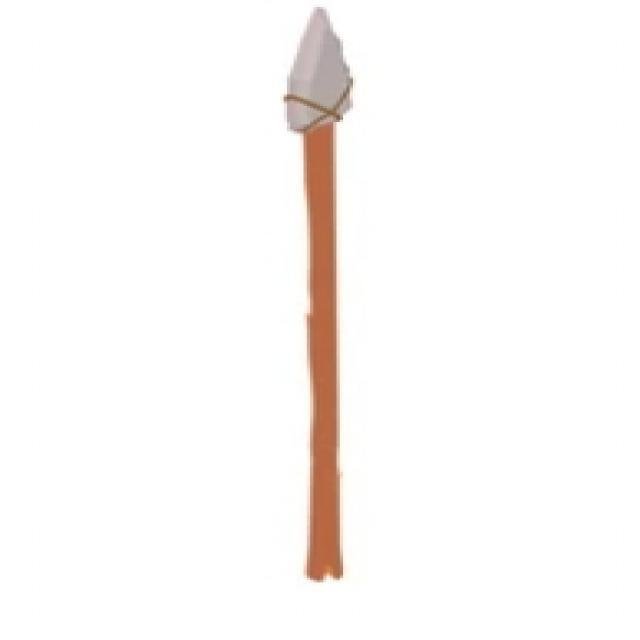spear: (234, 0, 409, 595)
